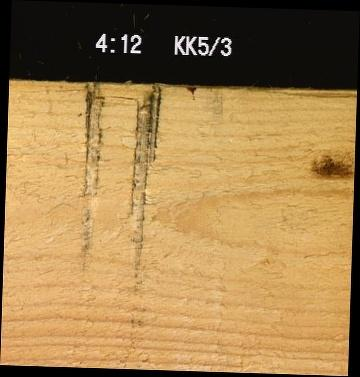wave: (242, 85, 356, 97)
